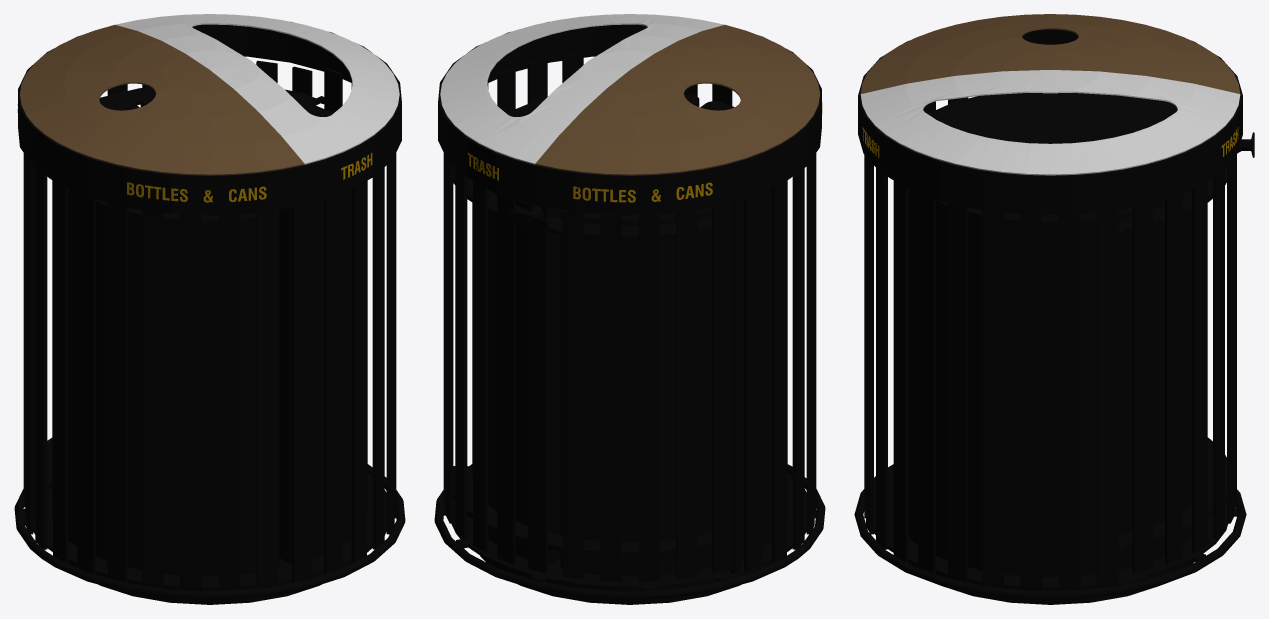
The picture shows the model from 3 angles, left to right: view 1: azimuth 30°, elevation 25°; view 2: azimuth 150°, elevation 25°; view 3: azimuth 270°, elevation 25°; orthographic projection.
Visible parts, largest first — view 1: mesh37.004_mesh37-geometry, mesh175.002_mesh175-geometry, mesh16.002_mesh16-geometry, mesh179.002_mesh179-geometry, mesh37.003_mesh37-geometry, mesh1.032_mesh1-geometry, mesh1.035_mesh1-geometry, mesh1.021_mesh1-geometry, mesh1.031_mesh1-geometry, mesh1.033_mesh1-geometry, mesh1.022_mesh1-geometry, mesh1.029_mesh1-geometry (+16 smaller); view 2: mesh37.004_mesh37-geometry, mesh175.002_mesh175-geometry, mesh16.002_mesh16-geometry, mesh179.002_mesh179-geometry, mesh37.003_mesh37-geometry, mesh3.018_mesh3-geometry, mesh3.019_mesh3-geometry, mesh3.017_mesh3-geometry, mesh3.013_mesh3-geometry, mesh3.014_mesh3-geometry, mesh3.012_mesh3-geometry, mesh1.028_mesh1-geometry (+18 smaller); view 3: mesh37.003_mesh37-geometry, mesh179.002_mesh179-geometry, mesh175.002_mesh175-geometry, mesh16.002_mesh16-geometry, mesh37.004_mesh37-geometry, mesh1.037_mesh1-geometry, mesh1.020_mesh1-geometry, mesh1.038_mesh1-geometry, mesh1.030_mesh1-geometry, mesh1.023_mesh1-geometry, mesh3.015_mesh3-geometry, mesh1.034_mesh1-geometry (+14 smaller).
Part boxes in pixels (x1=…): mesh37.004_mesh37-geometry: x1=52, y1=101, x2=279, y2=576; mesh175.002_mesh175-geometry: x1=20, y1=25, x2=304, y2=175; mesh16.002_mesh16-geometry: x1=18, y1=22, x2=401, y2=215; mesh179.002_mesh179-geometry: x1=115, y1=14, x2=399, y2=164; mesh37.003_mesh37-geometry: x1=140, y1=94, x2=367, y2=564; mesh1.032_mesh1-geometry: x1=180, y1=214, x2=201, y2=590; mesh1.035_mesh1-geometry: x1=256, y1=210, x2=277, y2=588; mesh1.021_mesh1-geometry: x1=142, y1=210, x2=163, y2=588; mesh1.031_mesh1-geometry: x1=218, y1=214, x2=239, y2=590; mesh1.033_mesh1-geometry: x1=292, y1=203, x2=312, y2=582; mesh1.022_mesh1-geometry: x1=107, y1=202, x2=127, y2=582; mesh1.029_mesh1-geometry: x1=324, y1=193, x2=342, y2=573; mesh37.004_mesh37-geometry: x1=560, y1=101, x2=787, y2=576; mesh175.002_mesh175-geometry: x1=535, y1=24, x2=819, y2=175; mesh16.002_mesh16-geometry: x1=438, y1=22, x2=821, y2=215; mesh179.002_mesh179-geometry: x1=440, y1=14, x2=724, y2=164; mesh37.003_mesh37-geometry: x1=472, y1=94, x2=699, y2=564; mesh3.018_mesh3-geometry: x1=638, y1=214, x2=659, y2=581; mesh3.019_mesh3-geometry: x1=600, y1=214, x2=621, y2=581; mesh3.017_mesh3-geometry: x1=676, y1=210, x2=697, y2=579; mesh3.013_mesh3-geometry: x1=562, y1=210, x2=583, y2=579; mesh3.014_mesh3-geometry: x1=712, y1=202, x2=732, y2=573; mesh3.012_mesh3-geometry: x1=527, y1=203, x2=547, y2=573; mesh1.028_mesh1-geometry: x1=744, y1=192, x2=762, y2=573; mesh37.003_mesh37-geometry: x1=909, y1=189, x2=1191, y2=577; mesh179.002_mesh179-geometry: x1=860, y1=70, x2=1240, y2=175; mesh175.002_mesh175-geometry: x1=860, y1=14, x2=1240, y2=93; mesh16.002_mesh16-geometry: x1=858, y1=29, x2=1242, y2=214; mesh37.004_mesh37-geometry: x1=928, y1=93, x2=1172, y2=143; mesh1.037_mesh1-geometry: x1=982, y1=210, x2=1003, y2=587; mesh1.020_mesh1-geometry: x1=1097, y1=210, x2=1118, y2=587; mesh1.038_mesh1-geometry: x1=1020, y1=214, x2=1041, y2=590; mesh1.030_mesh1-geometry: x1=1059, y1=214, x2=1080, y2=590; mesh1.023_mesh1-geometry: x1=948, y1=203, x2=968, y2=582; mesh3.015_mesh3-geometry: x1=1132, y1=203, x2=1152, y2=573; mesh1.034_mesh1-geometry: x1=918, y1=192, x2=935, y2=574.
Size of the model in its own units: 0.5125 by 0.6796 by 0.5248.
